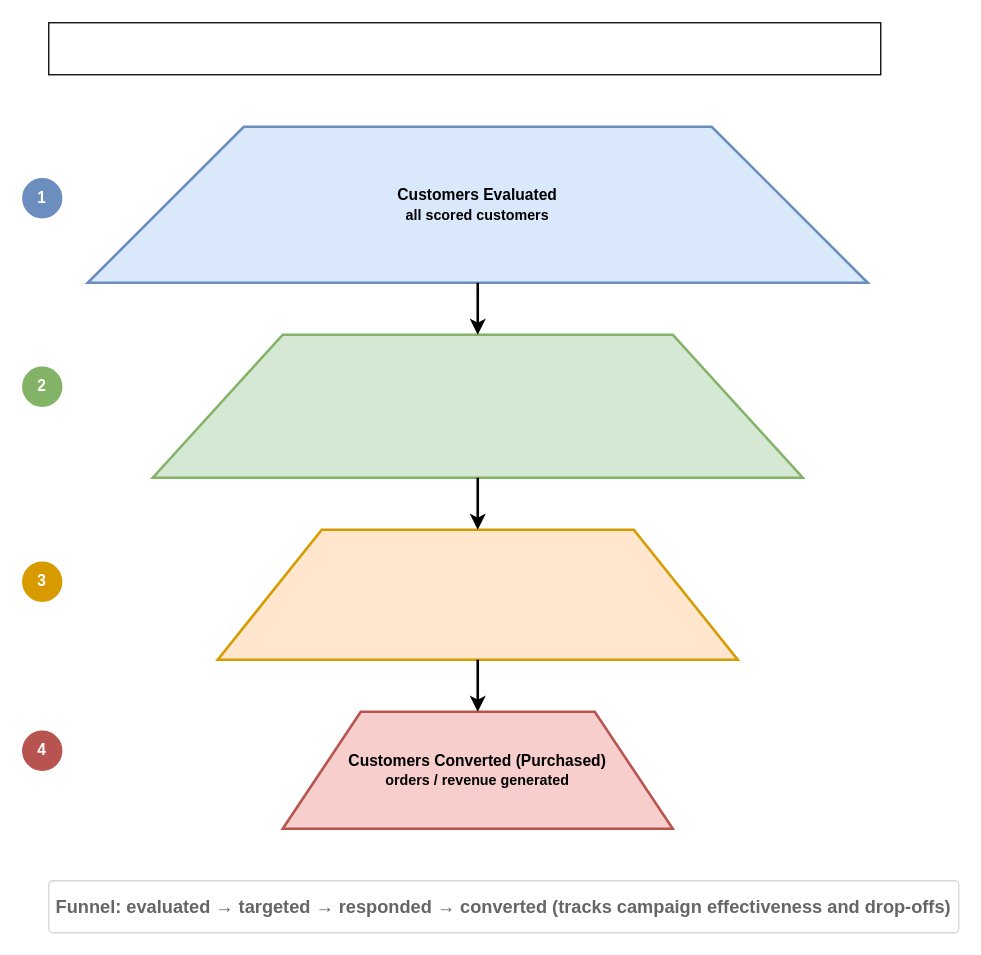
Image size: 981x955. Some labels were removed from this diagram. The centre of each missing label's shape, as x and y in pixels:
"Customers Responded responded_14d = 1" goes at point (477, 594).
"Customers Targeted received intervention" goes at point (477, 405).
"Intervention Funnel" goes at point (464, 48).
